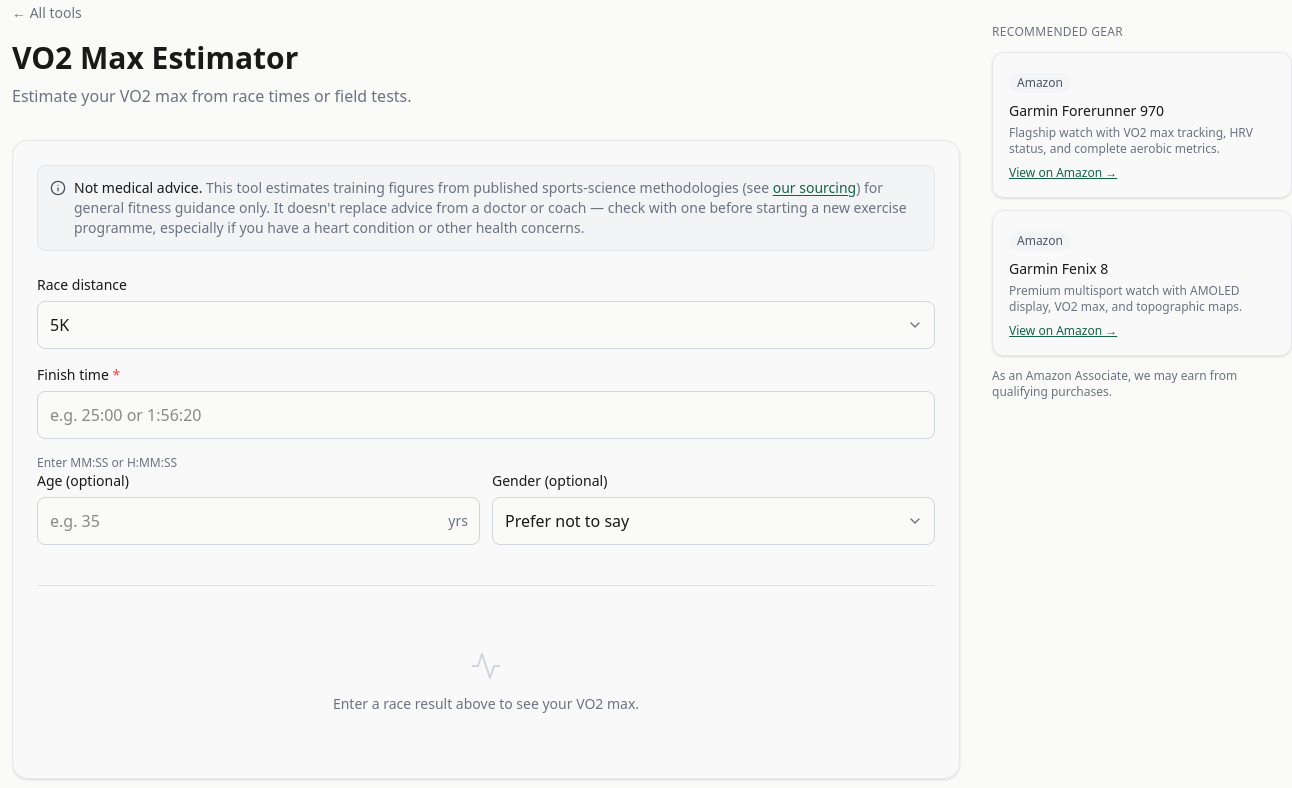
Vo2max page › shows race predictions table with standard distances (AC13)
This screenshot has width=1292, height=788.
Type "25:00" into the field labelled "Finish time *" at (486, 415), box [37,391,935,439]
(page scrolled)
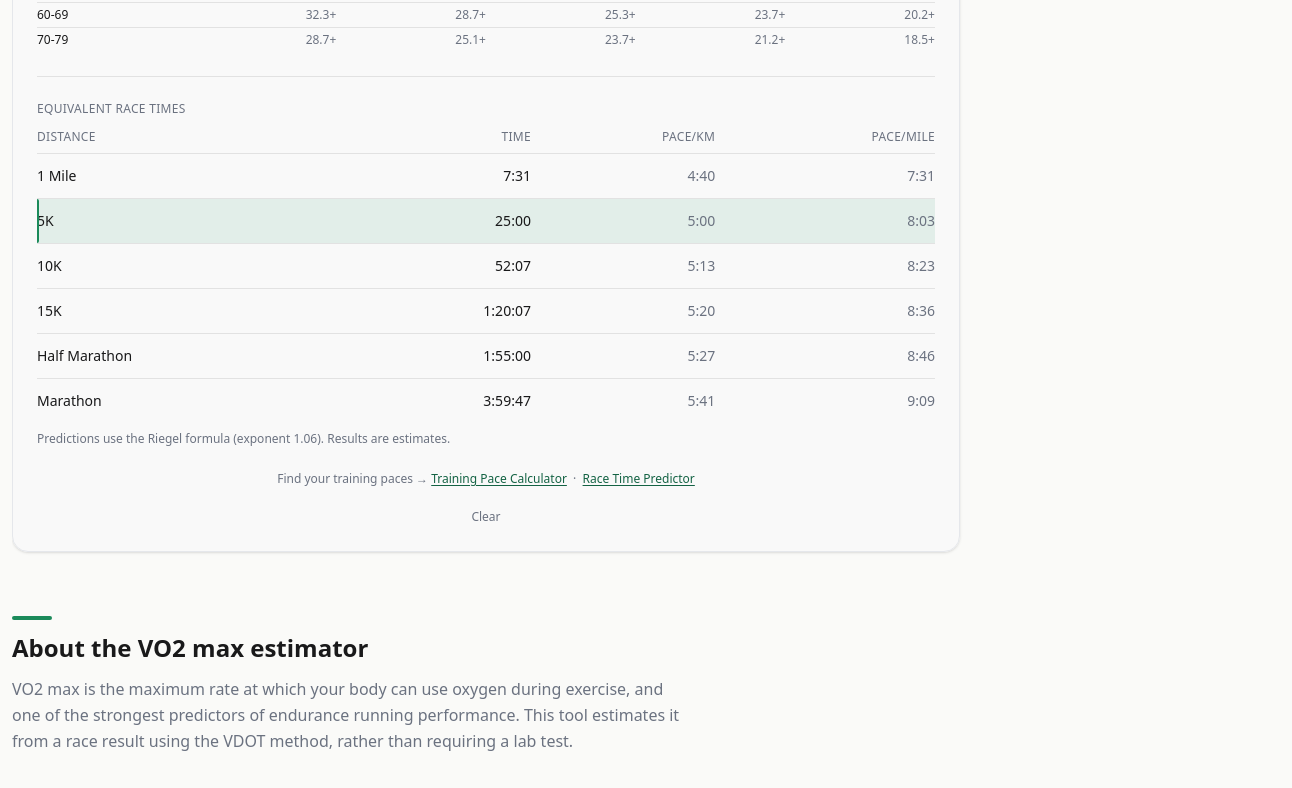
Expected: the table is shown, [37,129,935,423]
Expected: the cell "5K" is shown, [37,198,366,244]
Expected: the cell "Half Marathon" is shown, [37,334,366,378]
